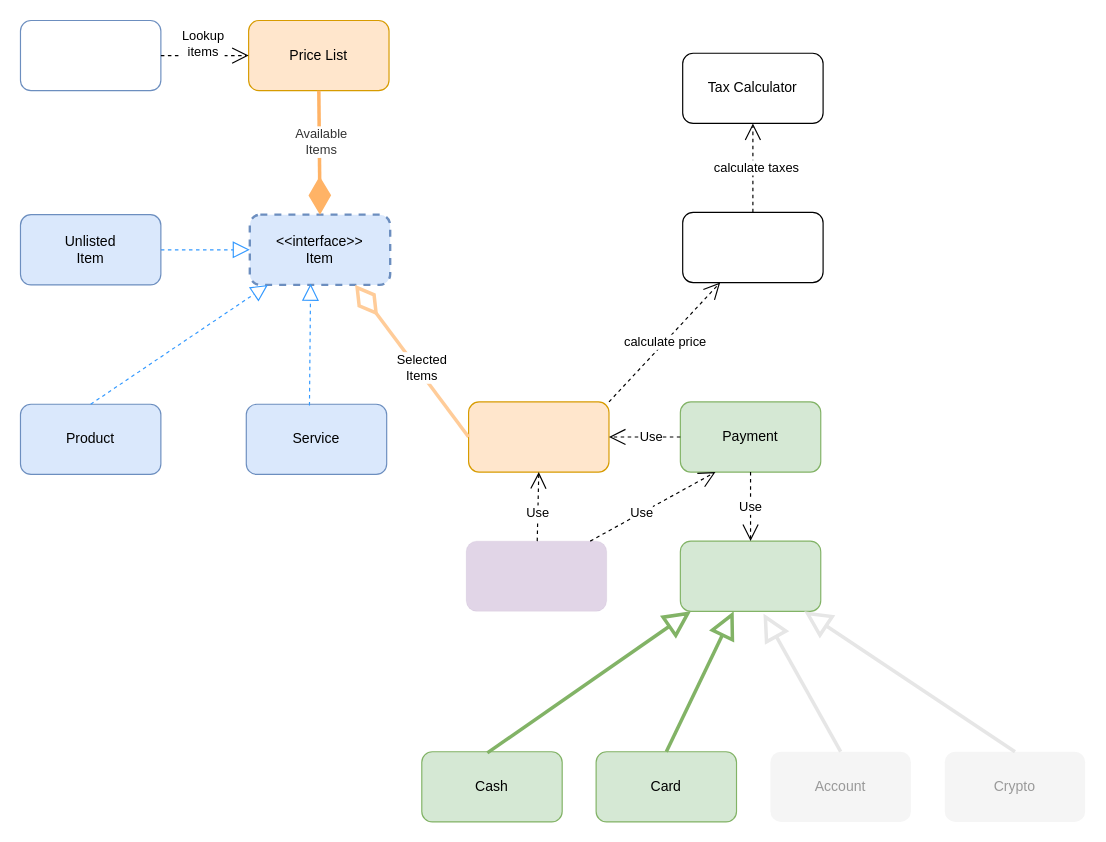
This 1106x842 diagram has some shape labels left out. The shapes that lost their labels are listed below. From the top down, each one's centre as x and y in pixels, then its label:
At pixel 90 55: "Keypad Entry".
At pixel 752 247: "Price Calculator".
At pixel 538 436: "Invoice".
At pixel 536 576: "Receipt".
At pixel 750 575: "Payment Method".
